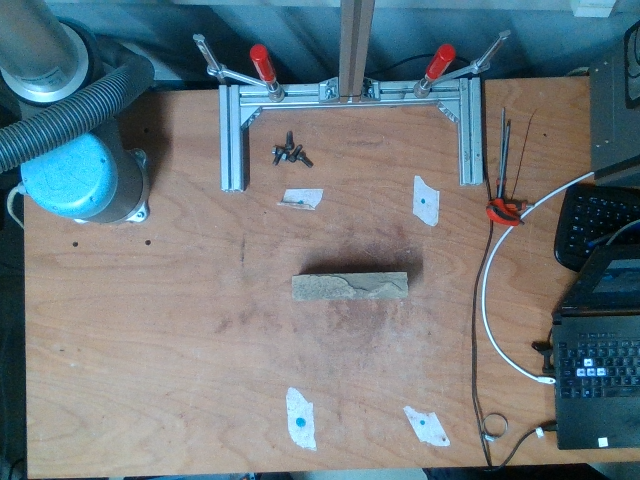brick-side: (293, 274, 407, 299)
